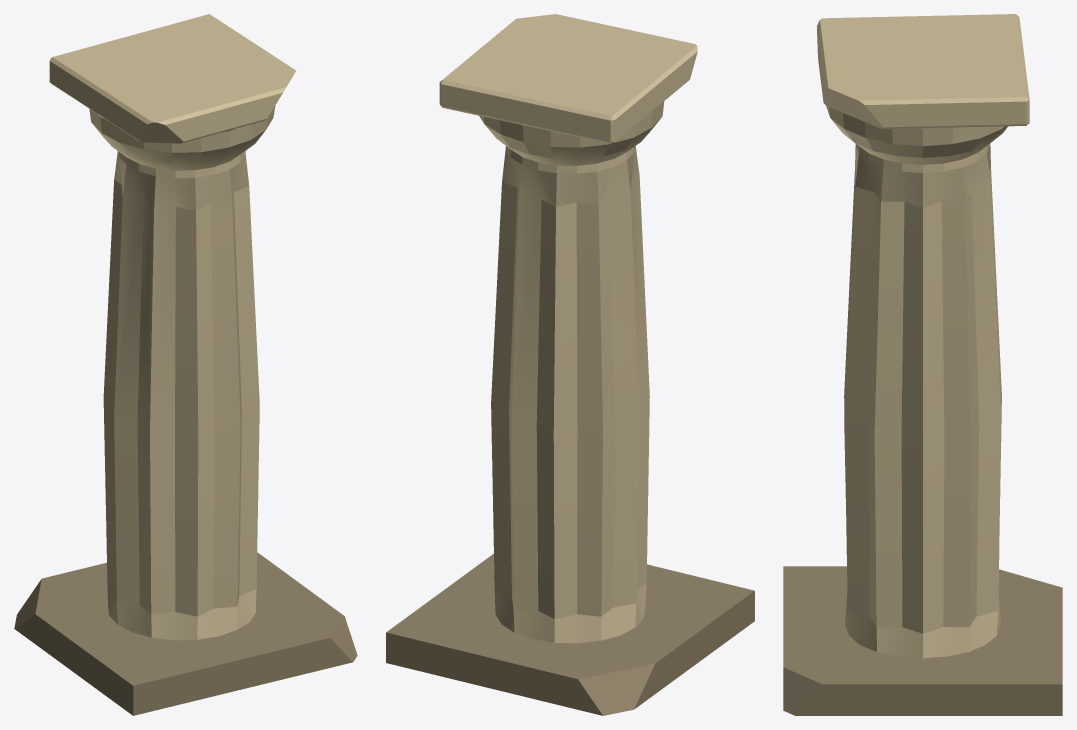
File: column-0.glb
The picture shows the model from 3 angles, left to right: view 1: azimuth 30°, elevation 25°; view 2: azimuth 150°, elevation 25°; view 3: azimuth 270°, elevation 25°; orthographic projection. The views are drawn at different scales.
Visible parts, largest first — view 1: column-0; view 2: column-0; view 3: column-0.
Boxes of the visible parts, x1,y1,x2,y2 form: column-0: [14, 14, 357, 715]; column-0: [386, 14, 754, 715]; column-0: [783, 14, 1062, 715].
Bounding box in the file's own units: 0.9599 × 2.27 × 0.9599.
